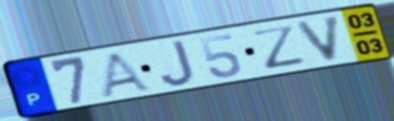5: (196, 32, 244, 79)
7: (47, 55, 89, 107)
A: (98, 50, 155, 99)
J: (159, 38, 197, 88)
V: (293, 12, 344, 64)
Z: (249, 22, 309, 70)
